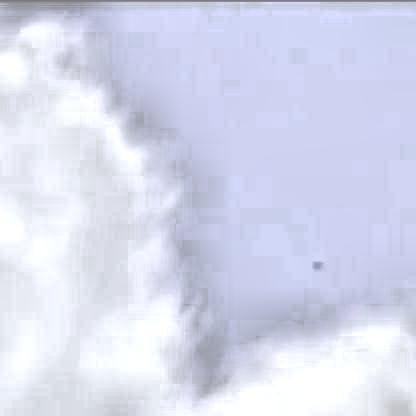golfball: (308, 258, 319, 268)
